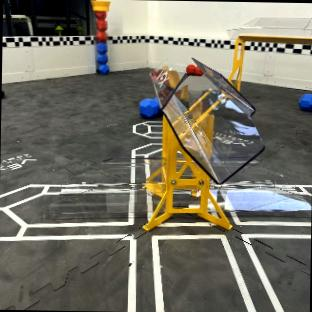Med_goal: (152, 59, 263, 182)
V5_BLUE: (139, 98, 159, 116), (97, 42, 108, 73), (298, 92, 312, 110)
